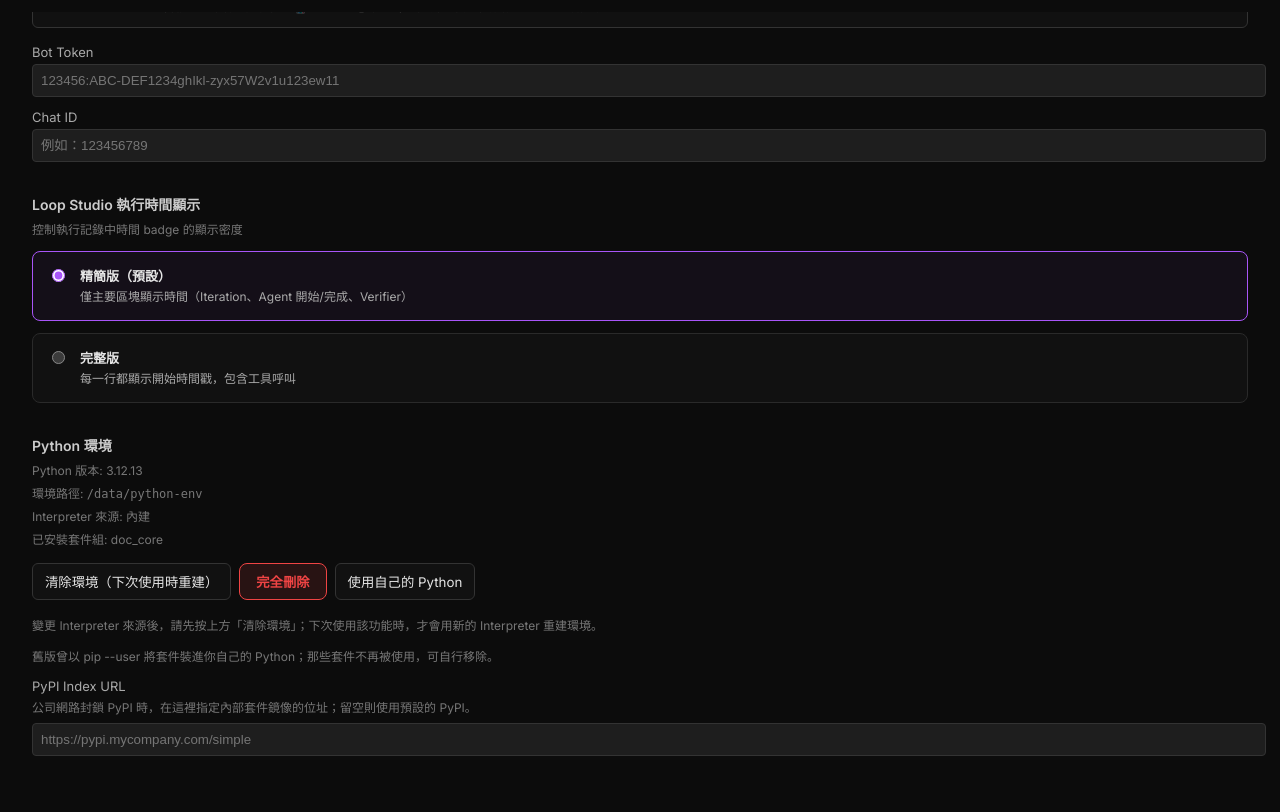
Test: GeneralPage — Python environment › surfaces a failure instead of doing nothing visible
(page scrolled)
What coordinates should you click on to do the following:
click the button "清除環境（下次使用時重建）"
I would click on:
 (132, 582)
Its box is [32,563,231,600].
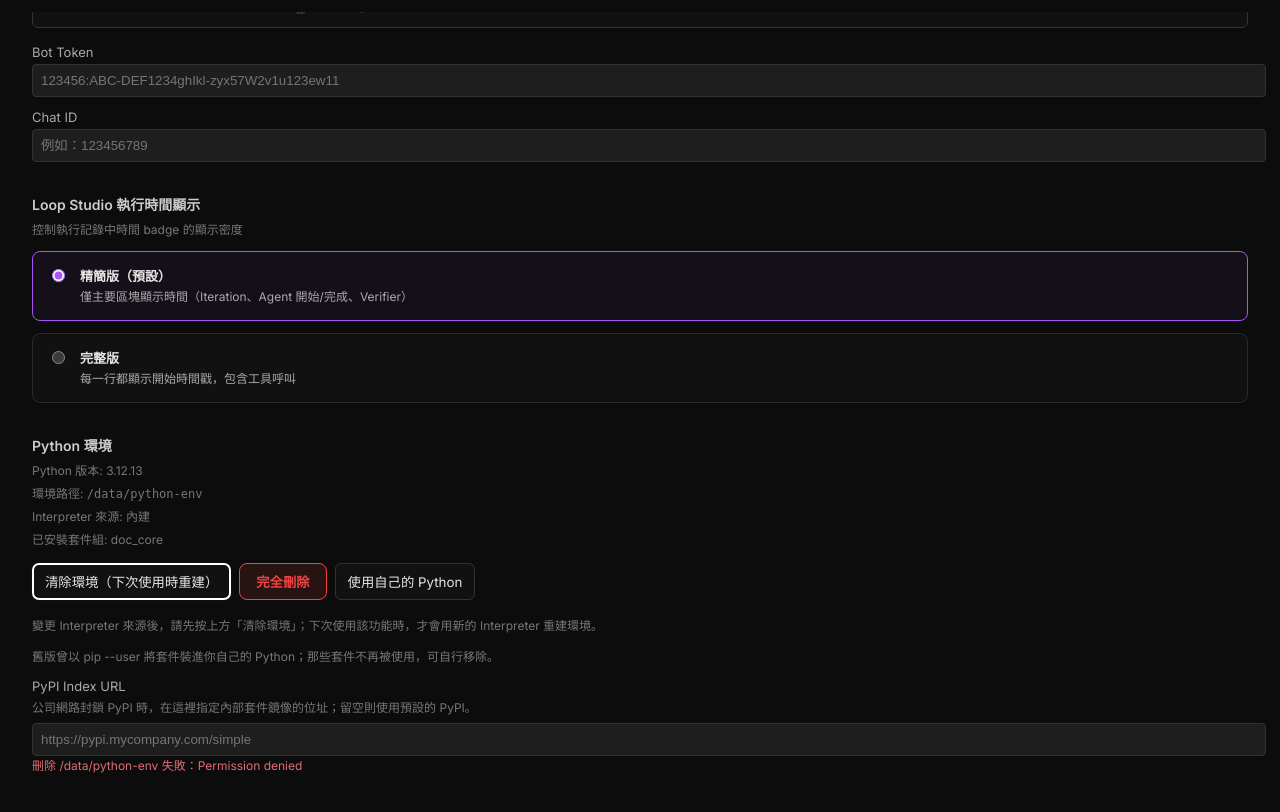
Check: the text "刪除 /data/python-env 失敗：Permission denied" is shown, box [32,758,302,773]
